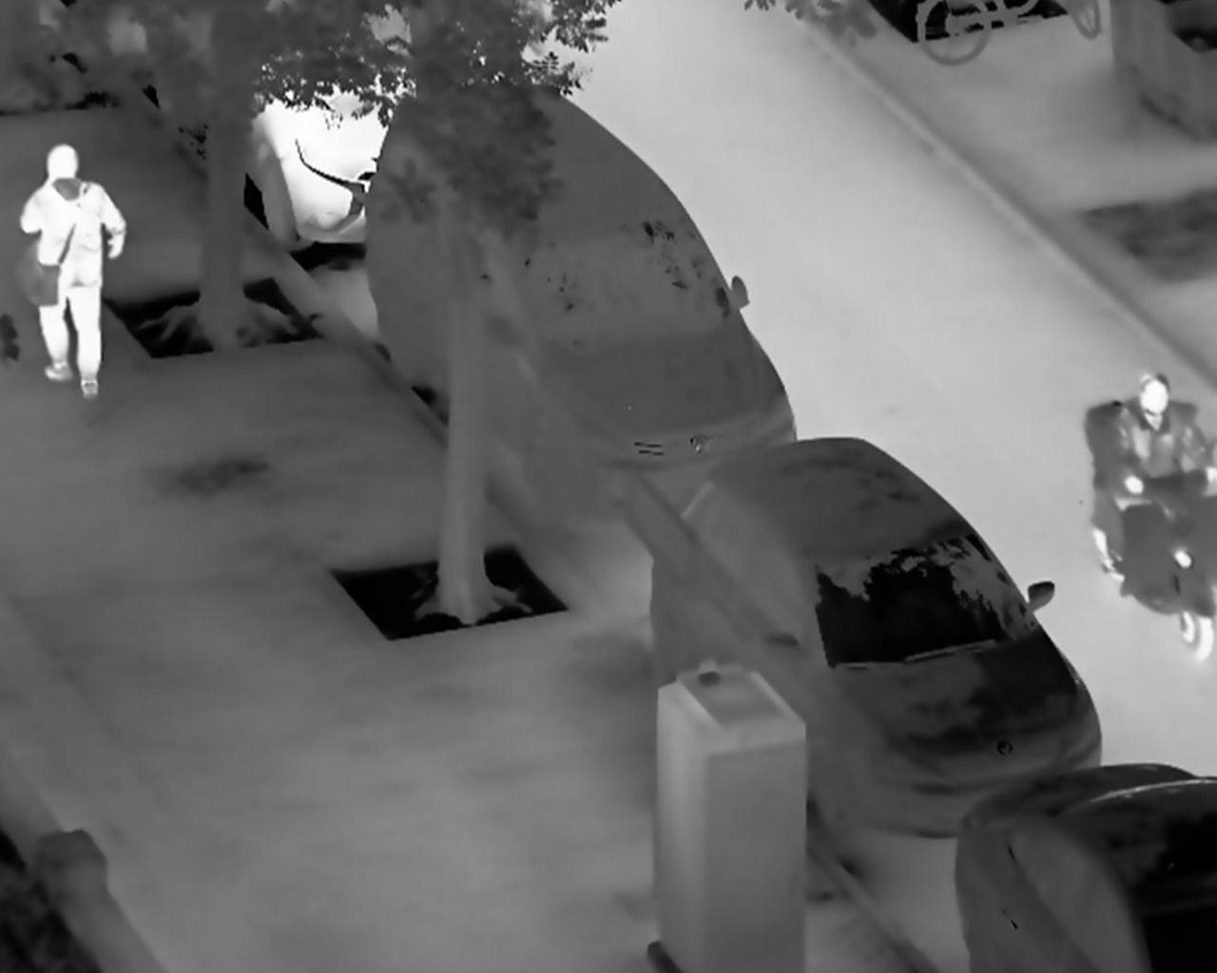person: (14, 138, 131, 401), (1099, 365, 1217, 578)
